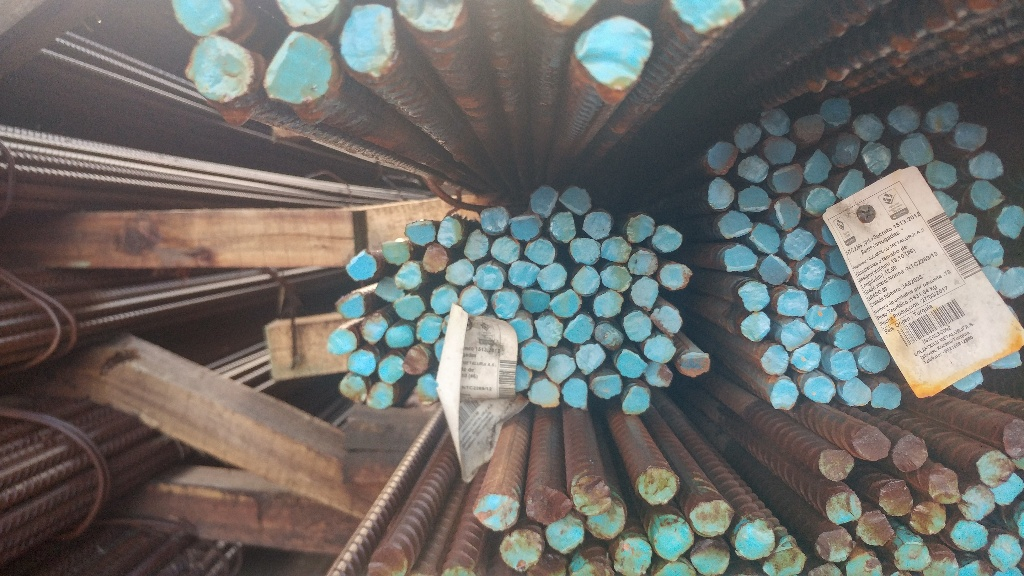dipstick: (571, 17, 652, 90), (262, 29, 333, 105), (184, 39, 257, 103), (338, 5, 397, 73), (672, 1, 746, 31), (395, 1, 467, 31), (172, 1, 235, 34), (526, 487, 573, 526), (635, 466, 680, 506), (652, 519, 693, 560), (690, 498, 733, 537), (736, 521, 777, 559), (475, 492, 517, 529), (276, 2, 343, 25), (501, 531, 541, 569), (534, 1, 599, 24), (570, 479, 611, 515), (587, 500, 623, 540), (892, 433, 927, 474), (612, 540, 653, 575), (851, 425, 891, 460), (545, 519, 585, 554), (856, 509, 895, 544), (879, 478, 914, 516), (762, 547, 807, 576), (976, 451, 1013, 486), (908, 501, 947, 534), (959, 484, 996, 518), (899, 134, 935, 168), (818, 448, 855, 481), (825, 492, 862, 525), (951, 520, 989, 552), (816, 529, 854, 561), (987, 533, 1020, 569), (894, 541, 932, 571), (927, 470, 961, 503), (969, 179, 1005, 210), (783, 228, 817, 260), (738, 280, 772, 312), (780, 319, 815, 350), (793, 112, 825, 145), (760, 254, 792, 287), (575, 343, 607, 376), (955, 120, 989, 151), (924, 158, 958, 189), (927, 102, 960, 133), (763, 134, 796, 165), (970, 151, 1004, 181), (707, 142, 737, 176), (886, 104, 922, 132), (651, 222, 683, 253), (725, 244, 758, 274), (507, 258, 540, 288), (527, 379, 561, 408), (740, 311, 771, 342), (750, 222, 780, 254), (989, 473, 1019, 505), (559, 186, 591, 216), (631, 277, 660, 310), (561, 313, 594, 342), (973, 236, 1004, 266), (861, 142, 891, 173), (623, 311, 654, 341), (570, 266, 601, 296), (533, 317, 563, 348), (491, 288, 521, 319), (346, 250, 376, 281), (859, 345, 891, 374), (549, 288, 581, 317), (524, 237, 556, 266), (660, 262, 693, 290), (530, 184, 558, 217), (360, 312, 388, 345), (769, 164, 803, 191), (799, 257, 826, 291), (563, 376, 589, 411), (778, 287, 808, 317), (583, 210, 613, 240), (761, 345, 790, 376), (627, 248, 658, 277), (819, 97, 851, 125), (720, 211, 752, 239), (521, 340, 549, 372), (509, 213, 541, 241), (950, 211, 977, 244), (774, 196, 801, 229), (923, 550, 957, 576), (464, 227, 490, 261), (996, 203, 1021, 238), (761, 106, 791, 135), (830, 349, 859, 379), (653, 306, 682, 336), (835, 169, 866, 197), (737, 154, 768, 182), (790, 343, 821, 371), (770, 378, 798, 409), (872, 381, 903, 409), (593, 290, 624, 318), (490, 236, 521, 264), (831, 134, 857, 167), (677, 351, 710, 377), (805, 150, 830, 184), (737, 185, 771, 210), (625, 215, 655, 243), (645, 335, 675, 363), (643, 361, 673, 389), (445, 259, 475, 287), (460, 286, 488, 316), (402, 345, 430, 375), (804, 375, 835, 402), (550, 212, 577, 243), (568, 238, 600, 264), (437, 216, 463, 248), (1001, 421, 1023, 458), (346, 348, 374, 377), (602, 237, 632, 264), (806, 305, 837, 331), (835, 322, 866, 348), (616, 349, 642, 380), (536, 263, 568, 288), (404, 219, 436, 244), (988, 347, 1021, 371), (707, 179, 735, 207), (622, 386, 649, 415), (592, 373, 621, 400), (546, 354, 575, 381), (375, 276, 404, 303), (328, 327, 357, 354), (377, 355, 404, 384), (846, 553, 880, 576), (853, 113, 883, 139), (734, 122, 760, 152), (422, 243, 448, 273), (383, 323, 413, 349), (820, 278, 851, 303), (599, 264, 630, 289), (417, 312, 442, 343), (335, 293, 366, 318), (805, 188, 833, 215), (842, 379, 870, 406), (481, 206, 509, 233), (395, 261, 422, 289), (366, 381, 394, 408), (595, 321, 622, 348), (339, 375, 366, 402), (431, 287, 457, 315), (476, 264, 505, 289), (395, 294, 424, 319), (508, 317, 535, 343), (955, 365, 983, 390), (521, 289, 549, 314), (1000, 266, 1021, 299), (827, 248, 850, 276), (382, 241, 410, 264), (936, 189, 960, 215), (847, 292, 869, 320), (417, 376, 439, 404), (982, 263, 1003, 289), (516, 365, 531, 393)
